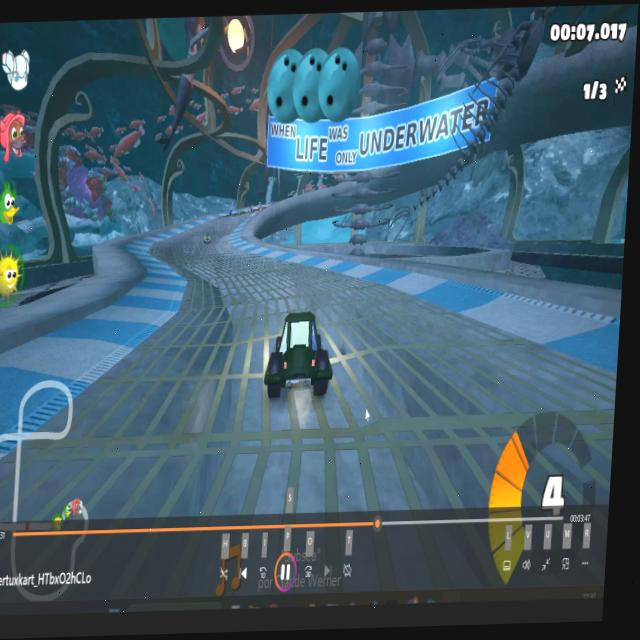player_kart: (263, 303, 339, 415)
